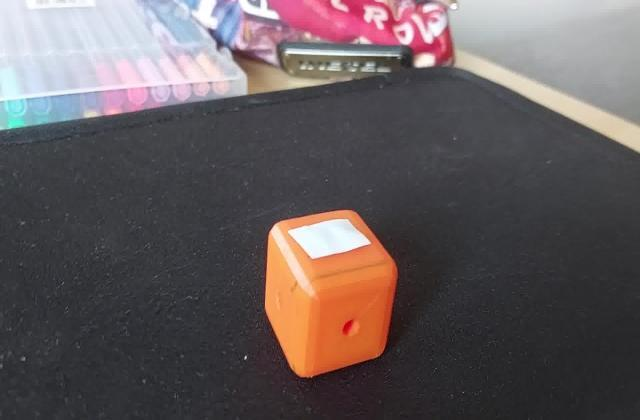cube: (262, 205, 403, 380)
white: (290, 222, 363, 264)
